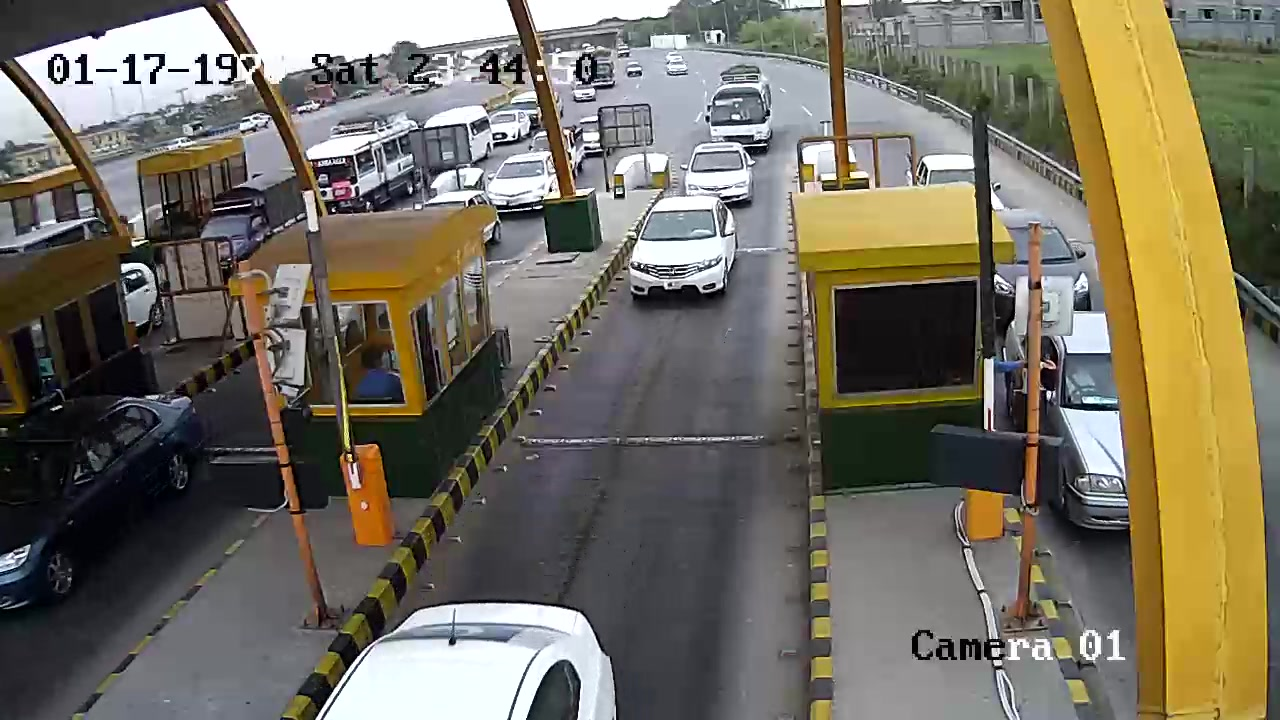F1: (620, 193, 742, 317)
